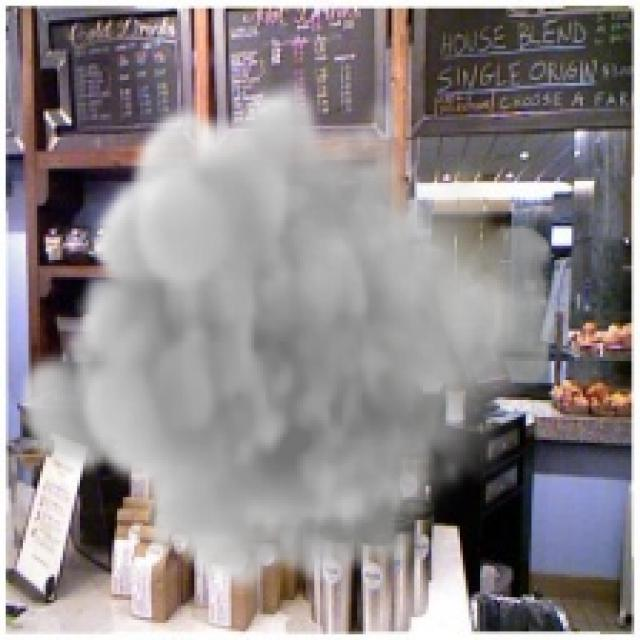smoke: (11, 77, 560, 594)
